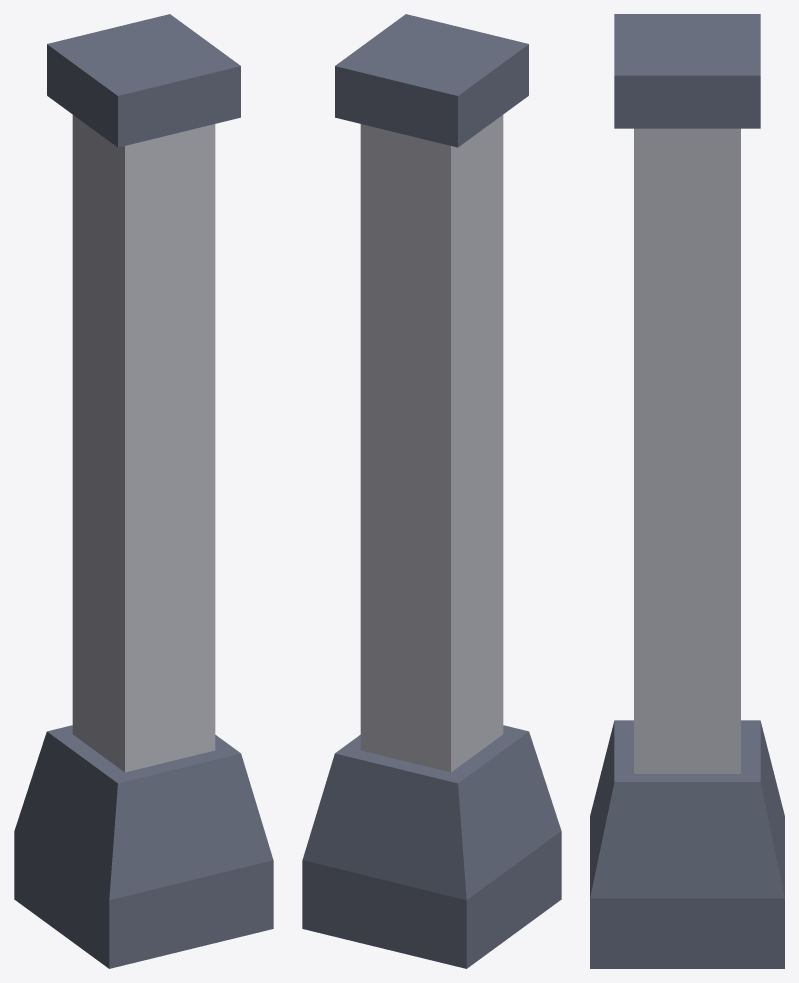
The model's file is bridge pillar.glb.
The picture shows the model from 3 angles, left to right: view 1: azimuth 30°, elevation 25°; view 2: azimuth 150°, elevation 25°; view 3: azimuth 270°, elevation 25°; orthographic projection. The views are drawn at different scales.
Parts seen in each view (by area): view 1: bridge_pillar-Mesh; view 2: bridge_pillar-Mesh; view 3: bridge_pillar-Mesh.
Part boxes in pixels (x1,y1,x2,y2): bridge_pillar-Mesh: (14,14,273,968); bridge_pillar-Mesh: (302,14,561,968); bridge_pillar-Mesh: (590,14,784,968).
Bounding box in the file's own units: 0.1 × 0.5 × 0.1.
